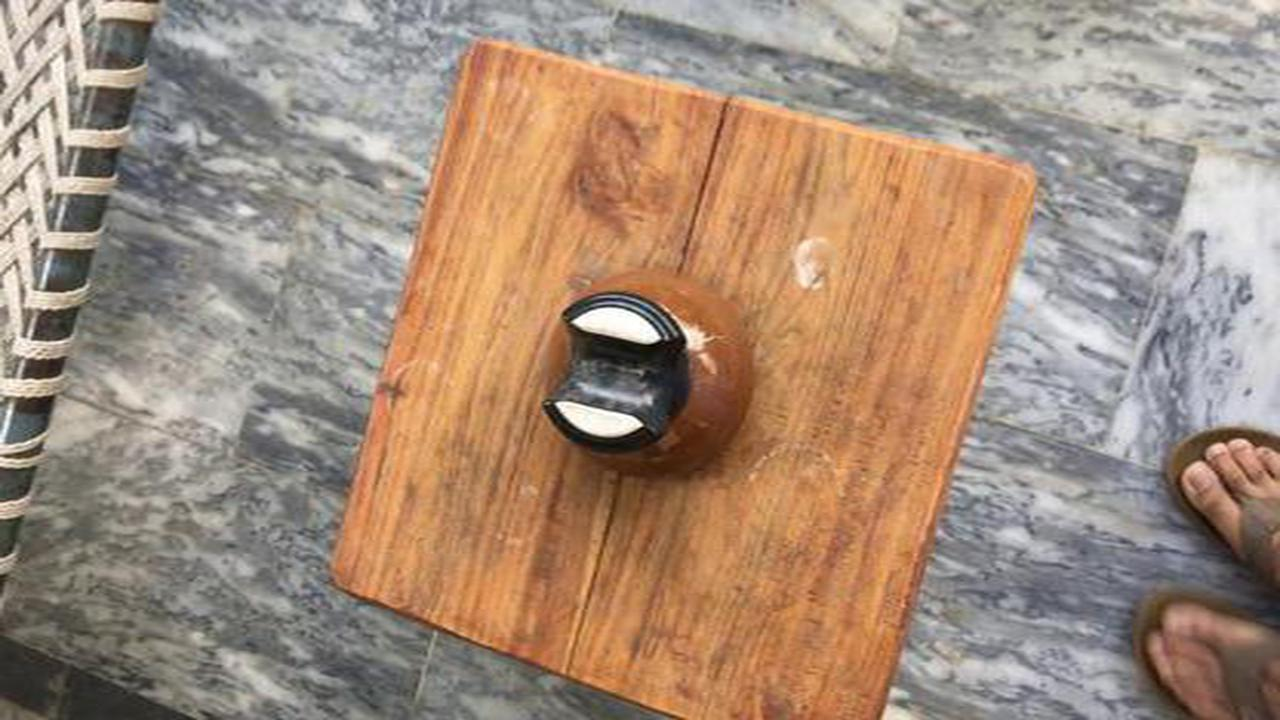insulator_pin: (524, 257, 779, 502)
